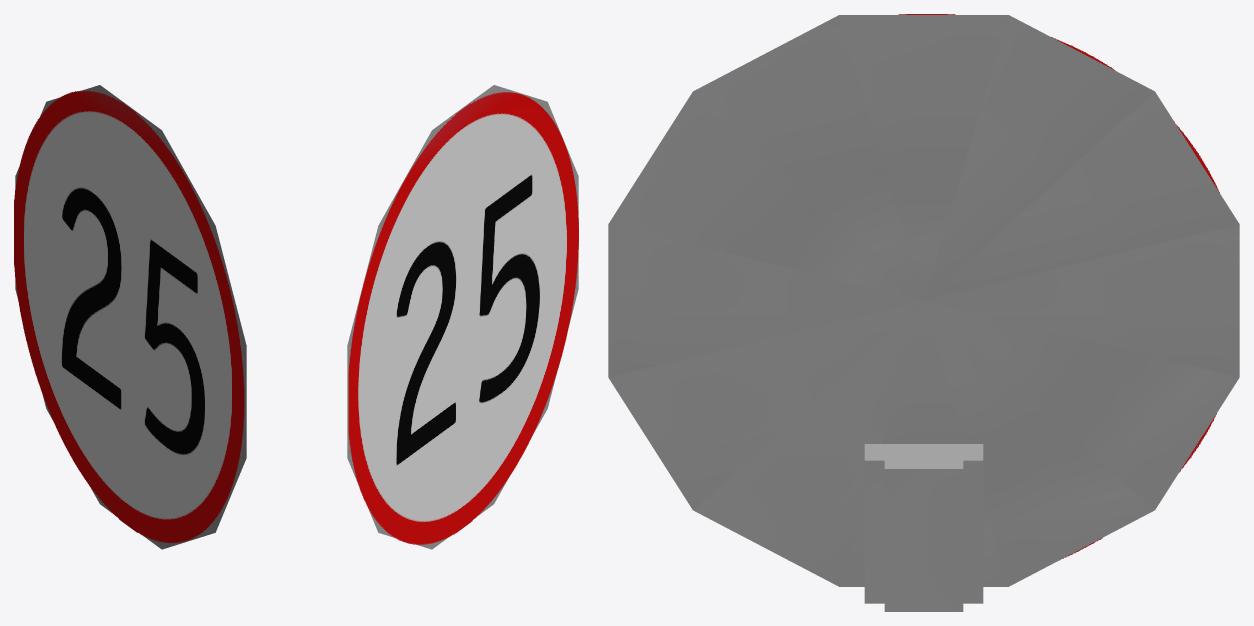
The model's file is speed_25_small.obj.
3 views of the same model, side by side, from view 1: azimuth 30°, elevation 25°; view 2: azimuth 150°, elevation 25°; view 3: azimuth 270°, elevation 25° (orthographic). The views are drawn at different scales.
Visible parts, largest first — view 1: cube, circle; view 2: cube, circle; view 3: circle, cube.
Part boxes in pixels (<box>): cube: <box>14,90,244,543</box>; circle: <box>15,85,246,549</box>; cube: <box>348,92,578,544</box>; circle: <box>347,85,578,549</box>; circle: <box>608,15,1239,586</box>; cube: <box>864,14,1219,611</box>.
Size of the model in its own units: 0.0484 by 0.5 by 0.5.
Materials: 2 (2 with a texture image).
